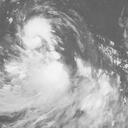cyclone: (19, 17, 60, 52)
